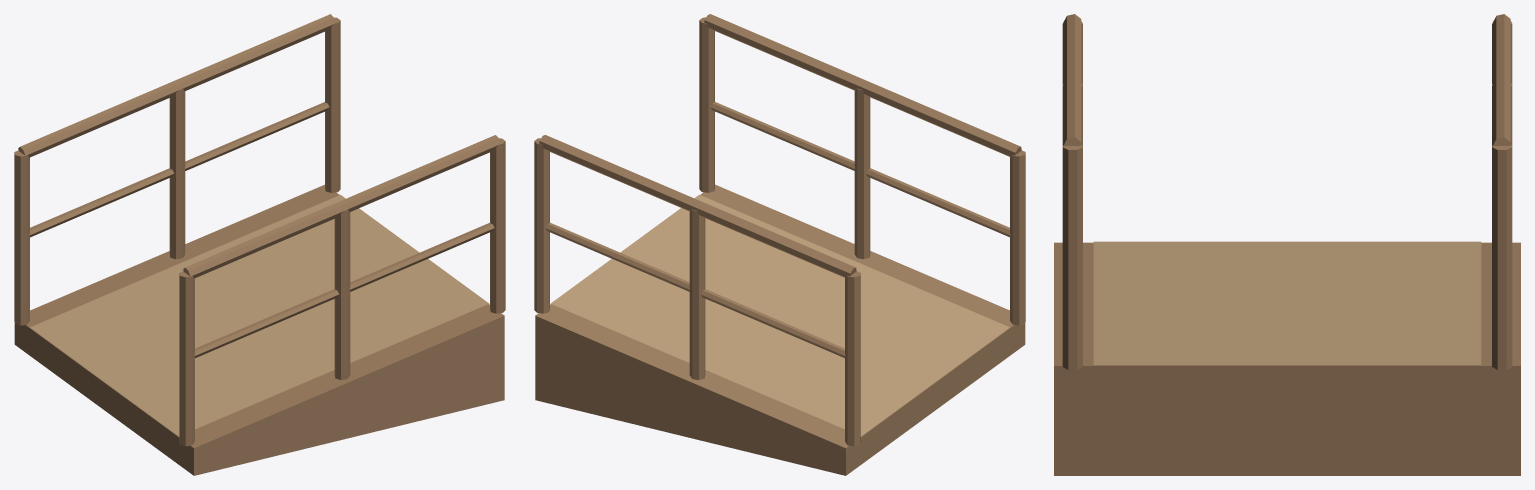
Rendered from Bridge_Rustic_StartRamp_2m.fbx.
3 renders of one model, left to right at view 1: azimuth 30°, elevation 25°; view 2: azimuth 150°, elevation 25°; view 3: azimuth 270°, elevation 25°, orthographic. The views are drawn at different scales.
Parts seen in each view (by area): view 1: Bridge_Rustic_StartRamp_2m; view 2: Bridge_Rustic_StartRamp_2m; view 3: Bridge_Rustic_StartRamp_2m.
Part boxes in pixels (box(x1,y1,x2,y2)): Bridge_Rustic_StartRamp_2m: box(14, 14, 505, 475); Bridge_Rustic_StartRamp_2m: box(534, 14, 1025, 475); Bridge_Rustic_StartRamp_2m: box(1054, 14, 1520, 475).
Bounding box in the file's own units: 209 × 160 × 200.
